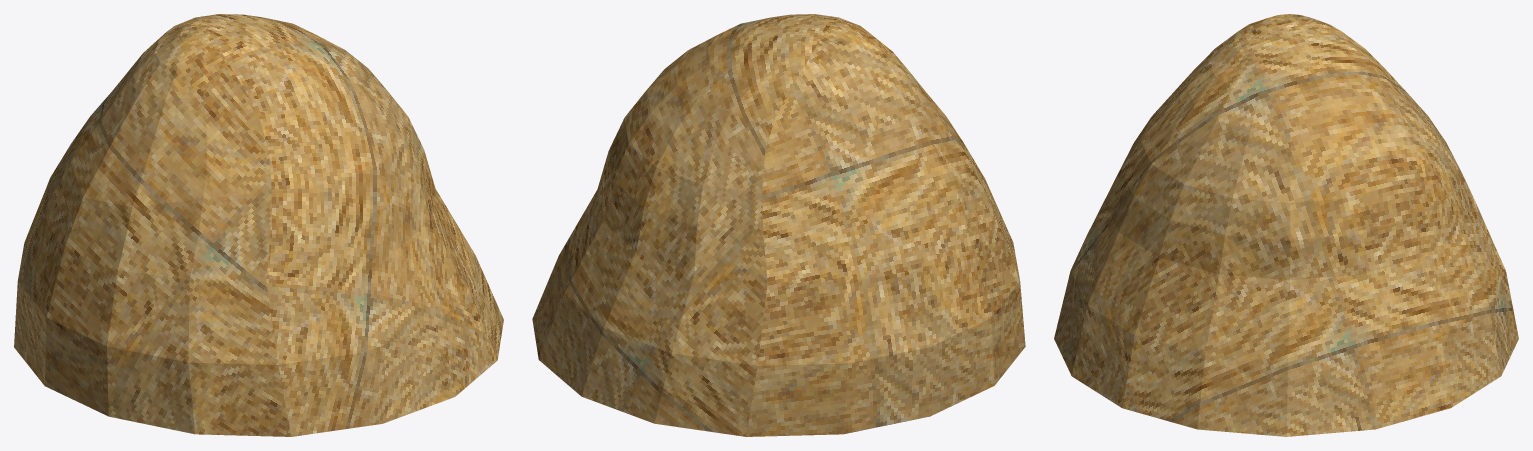
The model's file is hayStack.fbx.
The picture shows the model from 3 angles, left to right: view 1: azimuth 30°, elevation 25°; view 2: azimuth 150°, elevation 25°; view 3: azimuth 270°, elevation 25°; orthographic projection. The views are drawn at different scales.
Parts seen in each view (by area): view 1: Sphere; view 2: Sphere; view 3: Sphere.
Boxes of the visible parts, x1=… form: Sphere: x1=14, y1=14, x2=503, y2=436; Sphere: x1=532, y1=14, x2=1025, y2=436; Sphere: x1=1054, y1=14, x2=1518, y2=436.
Size of the model in its own units: 297 by 208 by 296.
